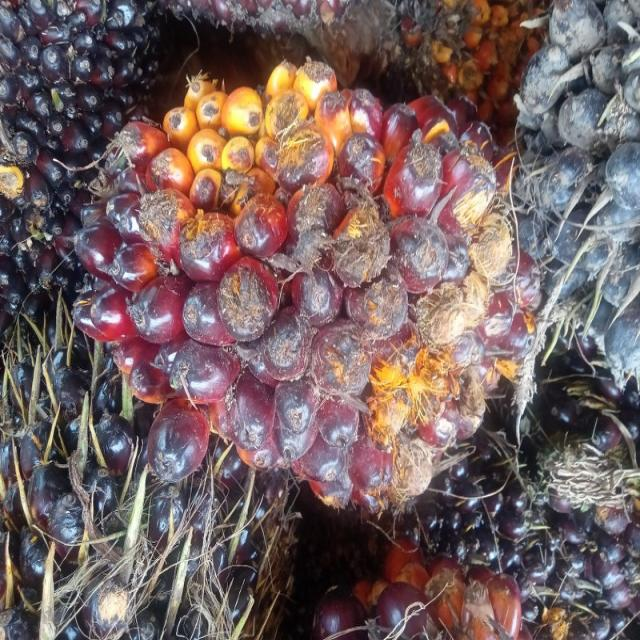fraksi 3: (84, 56, 526, 505)
